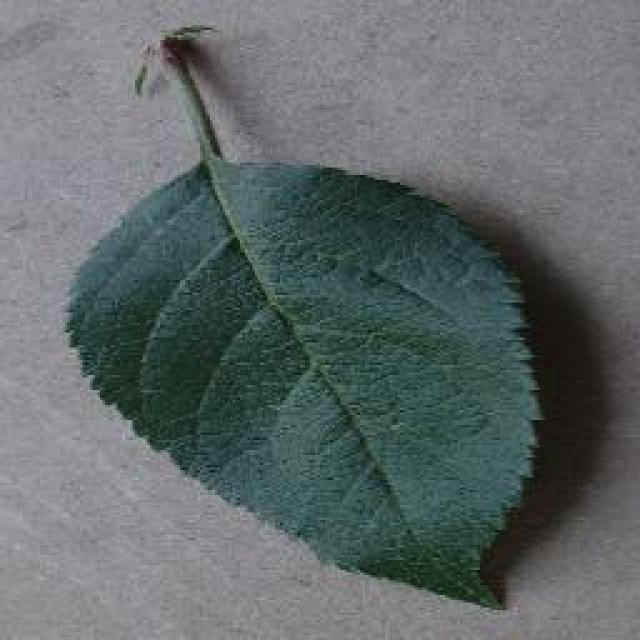apple healthy: (60, 22, 552, 610)
